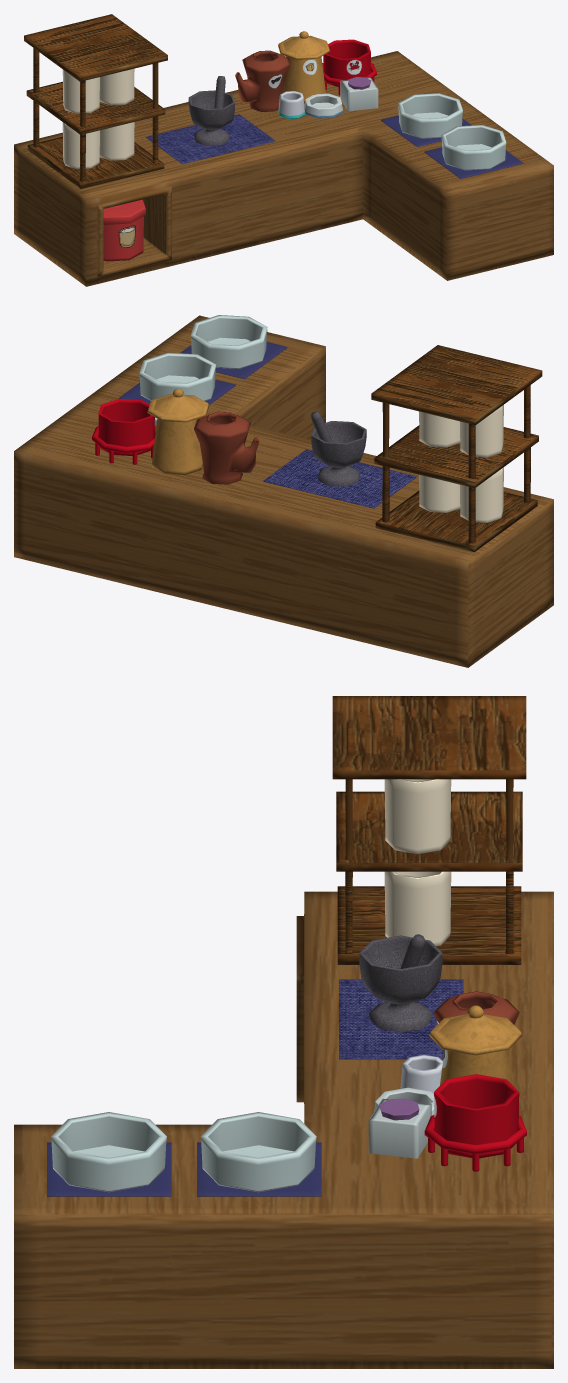
The model's file is CounterT.fbx.
The picture shows the model from 3 angles, top to bottom: view 1: azimuth 30°, elevation 25°; view 2: azimuth 150°, elevation 25°; view 3: azimuth 270°, elevation 25°; orthographic projection. The views are drawn at different scales.
Parts seen in each view (by area): view 1: Counter_GEO_001, Shelf_GEO_001, Somtam_Prawn_001_GEO, Motar_Nappery_GEO_001, Papaya_Bowl_GEO_001, Mango_Bowl_GEO_001, Rice_GEO_002, Motar_GEO_001, Somtam_VegetJar_002_GEO, Somtam_VegetJar_001_GEO, Somtam_VegetJar_003_GEO, Somtam_VegetJar_004_GEO (+2 smaller); view 2: Counter_GEO_001, Shelf_GEO_001, Somtam_Prawn_001_GEO, Motar_Nappery_GEO_001, Papaya_Bowl_GEO_001, Mango_Bowl_GEO_001, Motar_GEO_001, Somtam_VegetJar_002_GEO, Somtam_VegetJar_003_GEO, Somtam_VegetJar_001_GEO, Somtam_VegetJar_004_GEO, Mango_Nappery_GEO_001 (+1 smaller); view 3: Counter_GEO_001, Shelf_GEO_001, Somtam_Prawn_001_GEO, Papaya_Bowl_GEO_001, Mango_Bowl_GEO_001, Motar_GEO_001, Motar_Nappery_GEO_001, Somtam_VegetJar_004_GEO, Somtam_VegetJar_001_GEO, Mango_Nappery_GEO_001, Papaya_Nappery_GEO_001.
Part boxes in pixels (bbox=[...]): Counter_GEO_001: bbox=[14, 51, 553, 286]; Shelf_GEO_001: bbox=[24, 14, 167, 188]; Somtam_Prawn_001_GEO: bbox=[235, 31, 378, 119]; Motar_Nappery_GEO_001: bbox=[146, 114, 275, 164]; Papaya_Bowl_GEO_001: bbox=[441, 125, 506, 170]; Mango_Bowl_GEO_001: bbox=[398, 93, 462, 138]; Rice_GEO_002: bbox=[103, 199, 145, 261]; Motar_GEO_001: bbox=[188, 90, 234, 145]; Somtam_VegetJar_002_GEO: bbox=[62, 122, 99, 169]; Somtam_VegetJar_001_GEO: bbox=[99, 122, 134, 160]; Somtam_VegetJar_003_GEO: bbox=[62, 69, 99, 113]; Somtam_VegetJar_004_GEO: bbox=[99, 68, 134, 105]; Counter_GEO_001: bbox=[14, 315, 553, 667]; Shelf_GEO_001: bbox=[371, 345, 542, 551]; Somtam_Prawn_001_GEO: bbox=[92, 388, 259, 484]; Motar_Nappery_GEO_001: bbox=[263, 449, 416, 508]; Papaya_Bowl_GEO_001: bbox=[190, 315, 267, 368]; Mango_Bowl_GEO_001: bbox=[139, 352, 216, 400]; Motar_GEO_001: bbox=[311, 421, 366, 486]; Somtam_VegetJar_002_GEO: bbox=[460, 467, 503, 522]; Somtam_VegetJar_003_GEO: bbox=[460, 405, 503, 457]; Somtam_VegetJar_001_GEO: bbox=[419, 474, 460, 512]; Somtam_VegetJar_004_GEO: bbox=[419, 411, 460, 447]; Mango_Nappery_GEO_001: bbox=[180, 342, 287, 379]; Counter_GEO_001: bbox=[14, 891, 553, 1368]; Shelf_GEO_001: bbox=[332, 696, 526, 964]; Somtam_Prawn_001_GEO: bbox=[368, 991, 526, 1171]; Papaya_Bowl_GEO_001: bbox=[51, 1112, 166, 1192]; Mango_Bowl_GEO_001: bbox=[200, 1112, 316, 1192]; Motar_GEO_001: bbox=[359, 935, 442, 1032]; Motar_Nappery_GEO_001: bbox=[339, 979, 463, 1059]; Somtam_VegetJar_004_GEO: bbox=[384, 779, 451, 854]; Somtam_VegetJar_001_GEO: bbox=[384, 871, 451, 946]; Mango_Nappery_GEO_001: bbox=[47, 1142, 171, 1196]; Papaya_Nappery_GEO_001: bbox=[197, 1142, 321, 1196].
Size of the model in its own units: 9.93 by 5.04 by 7.02.
